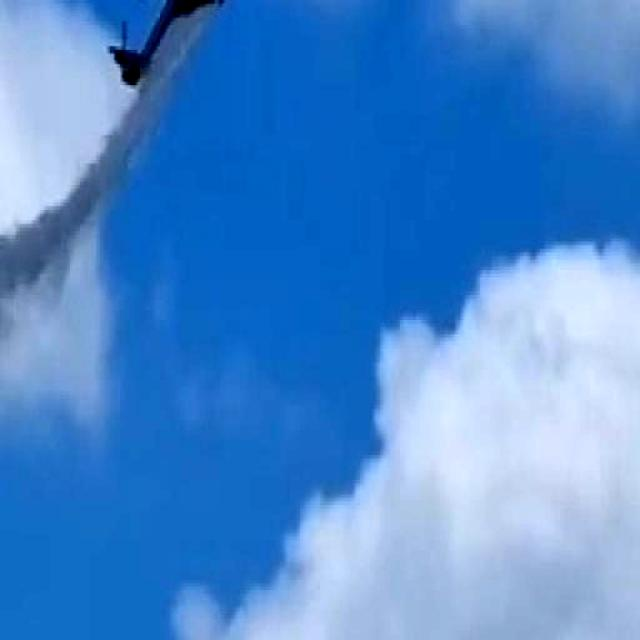drone: (105, 0, 252, 90)
